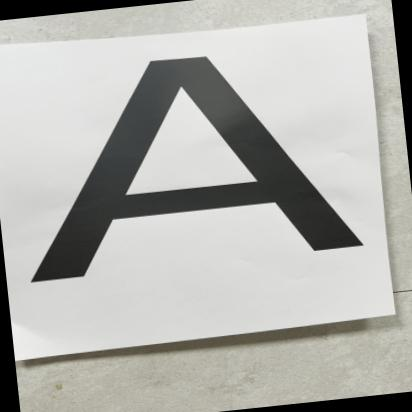seat: (0, 22, 381, 291)
